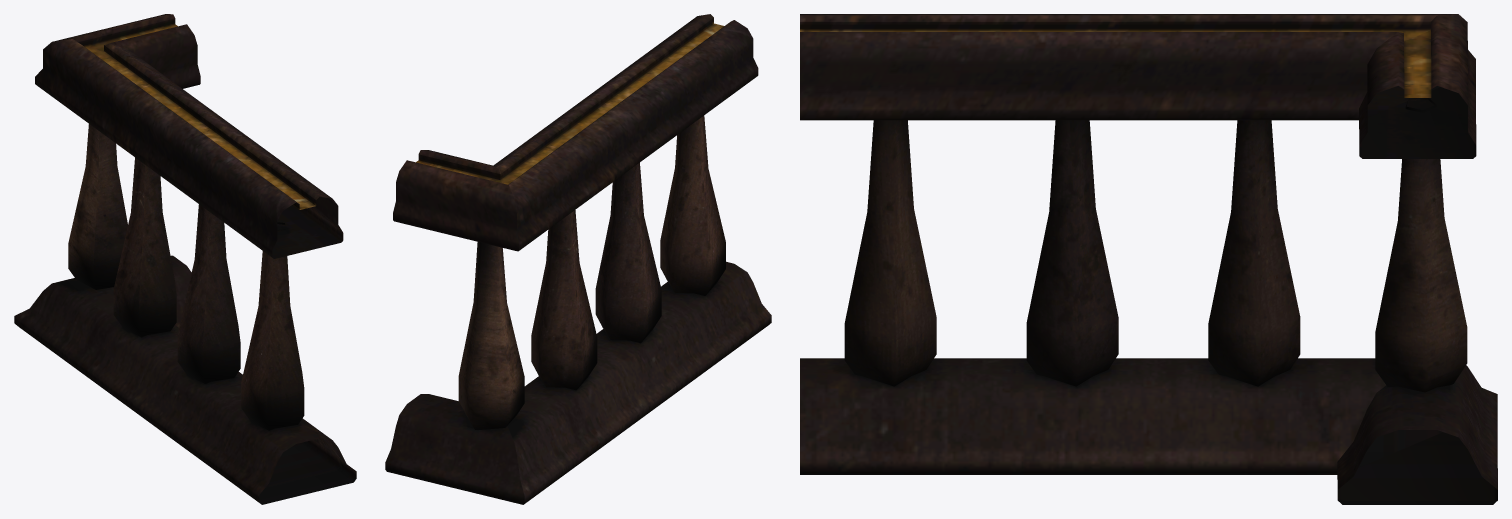
File: railing_corner_01.DAE
The picture shows the model from 3 angles, left to right: view 1: azimuth 30°, elevation 25°; view 2: azimuth 150°, elevation 25°; view 3: azimuth 270°, elevation 25°; orthographic projection. The views are drawn at different scales.
Visible parts, largest first — view 1: Object009; view 2: Object009; view 3: Object009.
Part boxes in pixels (x1,y1,x2,y2): Object009: (14, 14, 356, 504); Object009: (385, 14, 771, 504); Object009: (800, 14, 1497, 504).
Bounding box in the file's own units: 0.6233 × 1.27 × 1.92.
